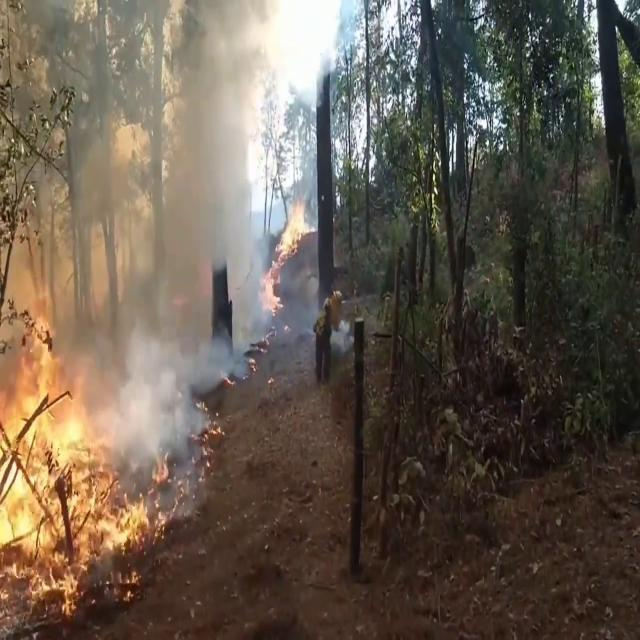Fire: (0, 288, 106, 606), (260, 192, 312, 318)
Smoke: (38, 0, 286, 462)
